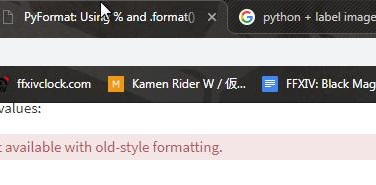cursor: (99, 2, 112, 21)
